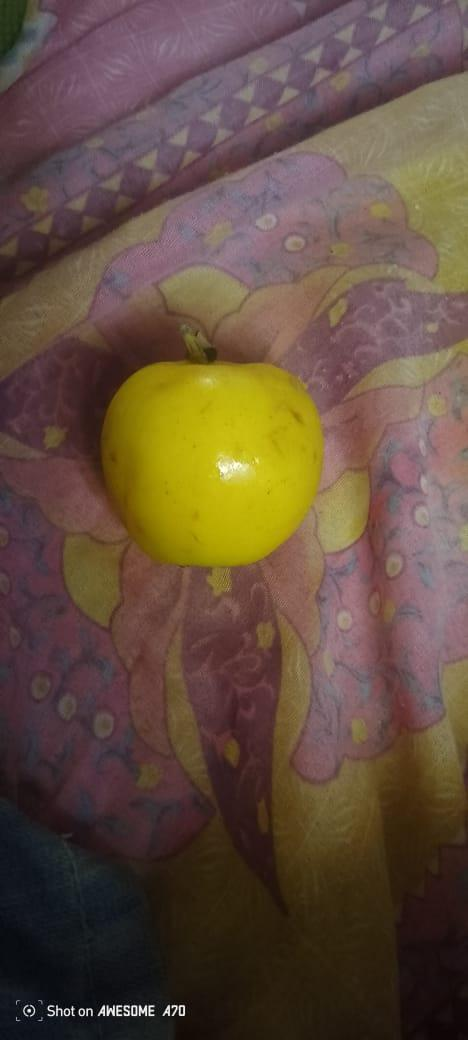non-mango: (97, 351, 318, 563)
